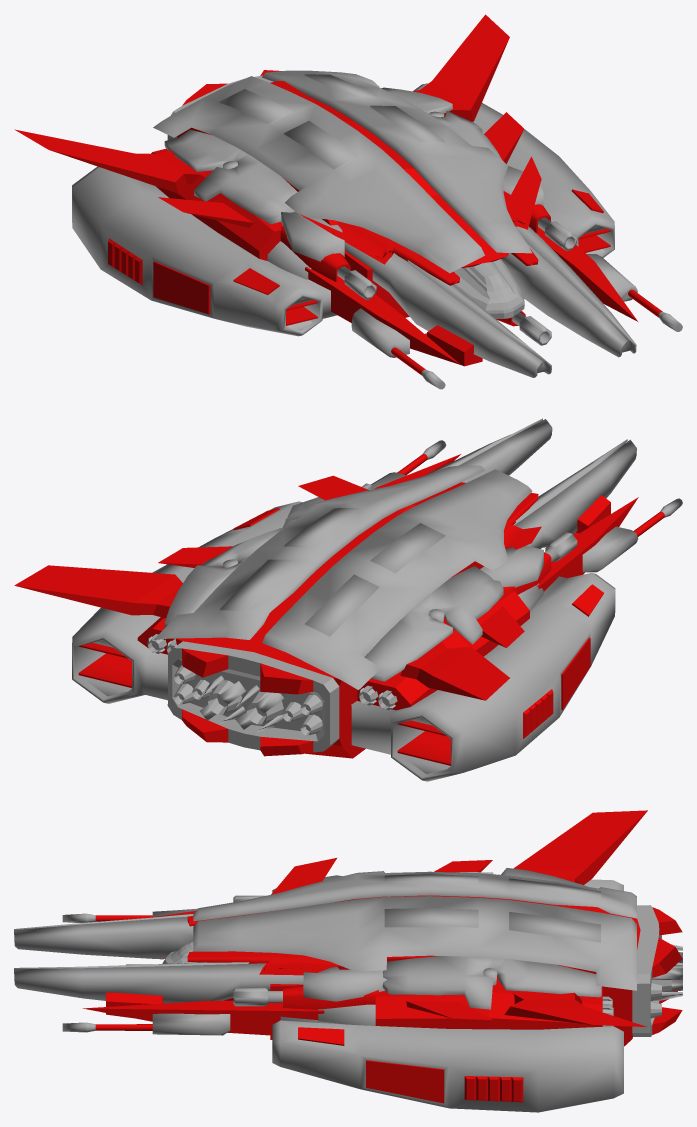
The model's file is Genyx5.fbx.
The picture shows the model from 3 angles, top to bottom: view 1: azimuth 30°, elevation 25°; view 2: azimuth 150°, elevation 25°; view 3: azimuth 270°, elevation 25°; orthographic projection. The views are drawn at different scales.
Visible parts, largest first — view 1: Genyx5_diffuse, Genyx5_color; view 2: Genyx5_diffuse, Genyx5_color; view 3: Genyx5_diffuse, Genyx5_color.
Part boxes in pixels (box(x1,y1,x2,y2)): Genyx5_diffuse: box(72, 70, 682, 389); Genyx5_color: box(14, 14, 662, 375); Genyx5_diffuse: box(72, 418, 682, 781); Genyx5_color: box(14, 454, 664, 765); Genyx5_diffuse: box(14, 868, 682, 1112); Genyx5_color: box(82, 810, 682, 1103).
Bounding box in the file's own units: 11.42 × 3.54 × 14.9.
